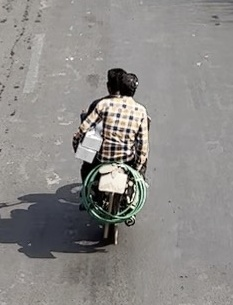BikeWithRider: (68, 63, 155, 248)
NoHelmet: (103, 66, 128, 96), (116, 69, 140, 100)
